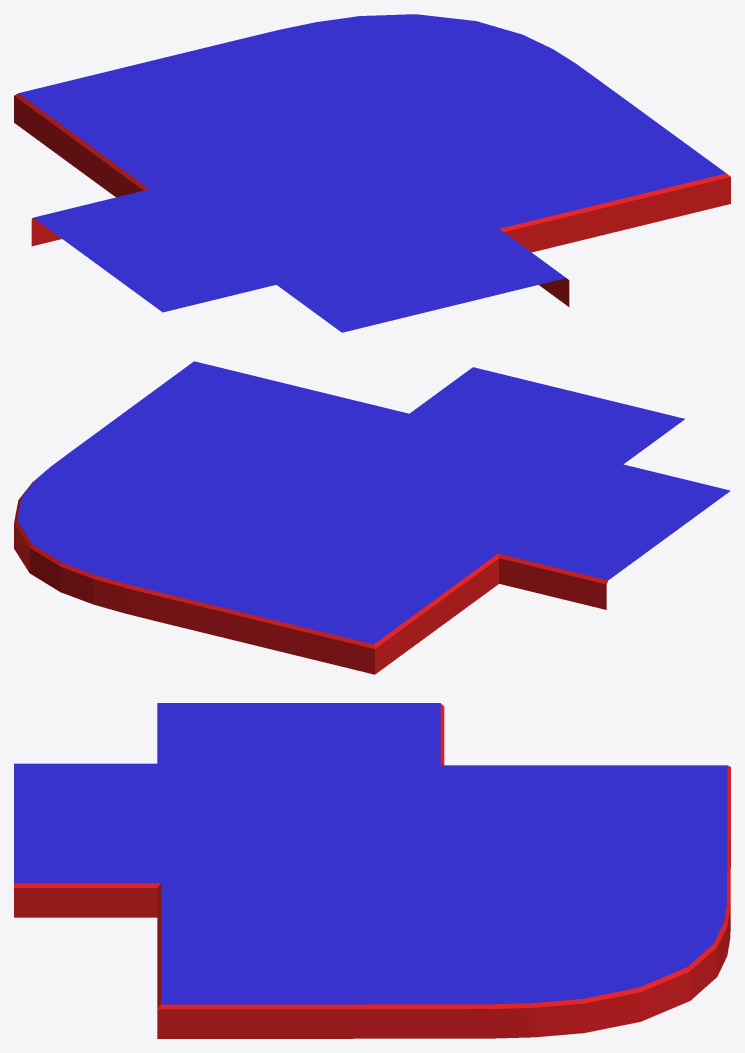
The model's file is SideWalk_big_round_incomplete.fbx.
3 views of the same model, one above another, from view 1: azimuth 30°, elevation 25°; view 2: azimuth 150°, elevation 25°; view 3: azimuth 270°, elevation 25° (orthographic). The views are drawn at different scales.
Parts seen in each view (by area): view 1: Remate calzada grande incompleto; view 2: Remate calzada grande incompleto; view 3: Remate calzada grande incompleto.
Boxes of the visible parts, bbox=[...] form: Remate calzada grande incompleto: bbox=[14, 14, 730, 332]; Remate calzada grande incompleto: bbox=[14, 361, 730, 674]; Remate calzada grande incompleto: bbox=[14, 703, 730, 1038].
Size of the model in its own units: 2000 by 101 by 2000.
